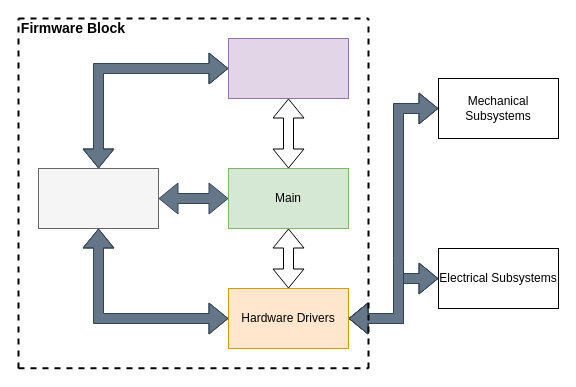
Image size: 576x387. Some labels were removed from this diagram. Here are the shapes that lost their labels. From the top down, the box of each, then its label:
(228, 38, 348, 98): Control System
(38, 168, 158, 228): STM HAL
